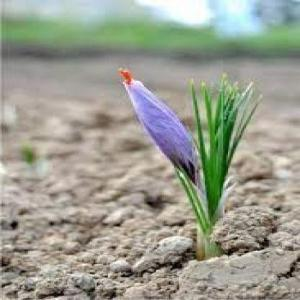Saffron: (119, 66, 205, 192)
